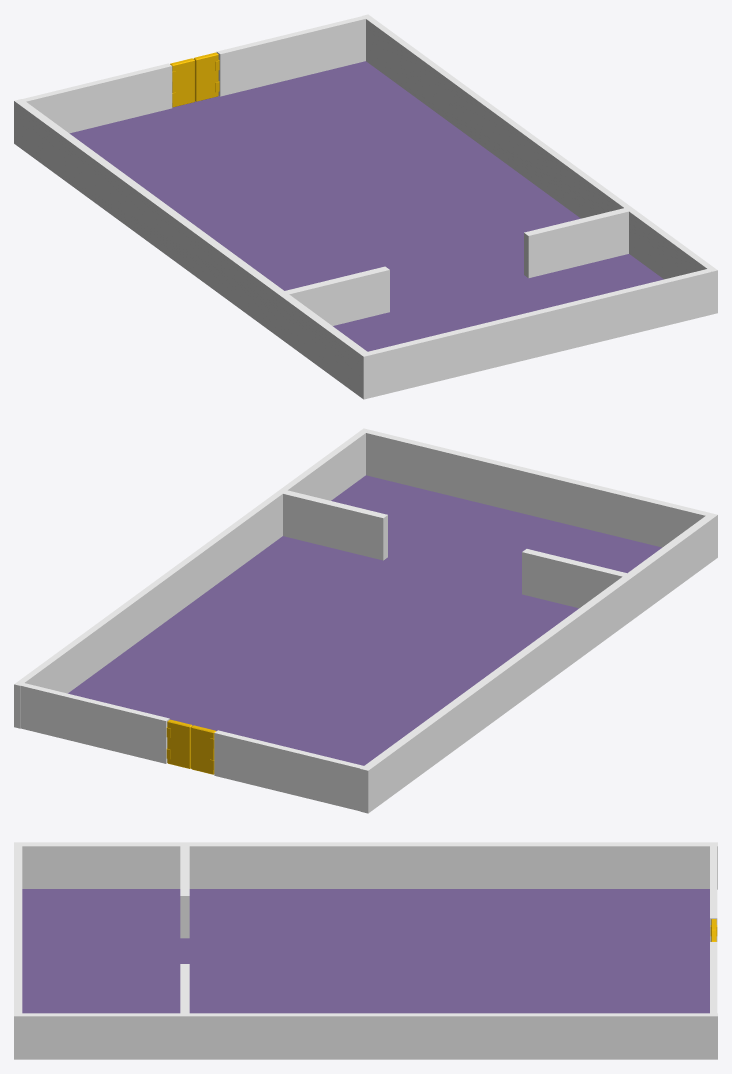
File: maps_97.fbx
The picture shows the model from 3 angles, top to bottom: view 1: azimuth 30°, elevation 25°; view 2: azimuth 150°, elevation 25°; view 3: azimuth 270°, elevation 25°; orthographic projection.
Parts seen in each view (by area): view 1: wall_01_08_geo, wall_01_07_geo, wall_01_05_geo, wall_01_06_geo, wall_01_09_geo1, wall_01_09_geo, wall_01_07_geo4, wall_01_07_geo6, polySurface161, polySurface165; view 2: wall_01_08_geo, wall_01_07_geo, wall_01_06_geo, wall_01_05_geo, wall_01_09_geo1, wall_01_09_geo, wall_01_07_geo4, wall_01_07_geo6, polySurface161, polySurface165; view 3: wall_01_08_geo, wall_01_06_geo, wall_01_07_geo, wall_01_05_geo, wall_01_07_geo6, wall_01_09_geo, wall_01_09_geo1, wall_01_07_geo4.
Part boxes in pixels (x1,y1,x2,y2): wall_01_08_geo: [69, 61, 663, 351]; wall_01_07_geo: [14, 99, 371, 399]; wall_01_05_geo: [368, 269, 711, 397]; wall_01_06_geo: [362, 14, 717, 314]; wall_01_09_geo1: [216, 16, 365, 96]; wall_01_09_geo: [22, 63, 172, 133]; wall_01_07_geo4: [524, 208, 628, 278]; wall_01_07_geo6: [285, 266, 389, 325]; polySurface161: [193, 52, 219, 101]; polySurface165: [170, 58, 194, 107]; wall_01_08_geo: [68, 475, 661, 765]; wall_01_07_geo: [360, 513, 717, 813]; wall_01_06_geo: [14, 428, 369, 728]; wall_01_05_geo: [366, 430, 709, 547]; wall_01_09_geo1: [20, 683, 169, 763]; wall_01_09_geo: [214, 730, 363, 811]; wall_01_07_geo4: [283, 490, 387, 560]; wall_01_07_geo6: [522, 549, 626, 608]; polySurface161: [166, 719, 192, 768]; polySurface165: [191, 725, 215, 774]; wall_01_08_geo: [22, 889, 709, 1013]; wall_01_06_geo: [14, 1013, 717, 1059]; wall_01_07_geo: [14, 842, 717, 889]; wall_01_05_geo: [14, 846, 22, 1013]; wall_01_07_geo6: [180, 846, 189, 938]; wall_01_09_geo: [710, 846, 717, 941]; wall_01_09_geo1: [710, 942, 717, 1013]; wall_01_07_geo4: [180, 964, 189, 1013].
Size of the model in its own units: 76.85 by 8.89 by 131.
Materials: 2 (2 with a texture image).
